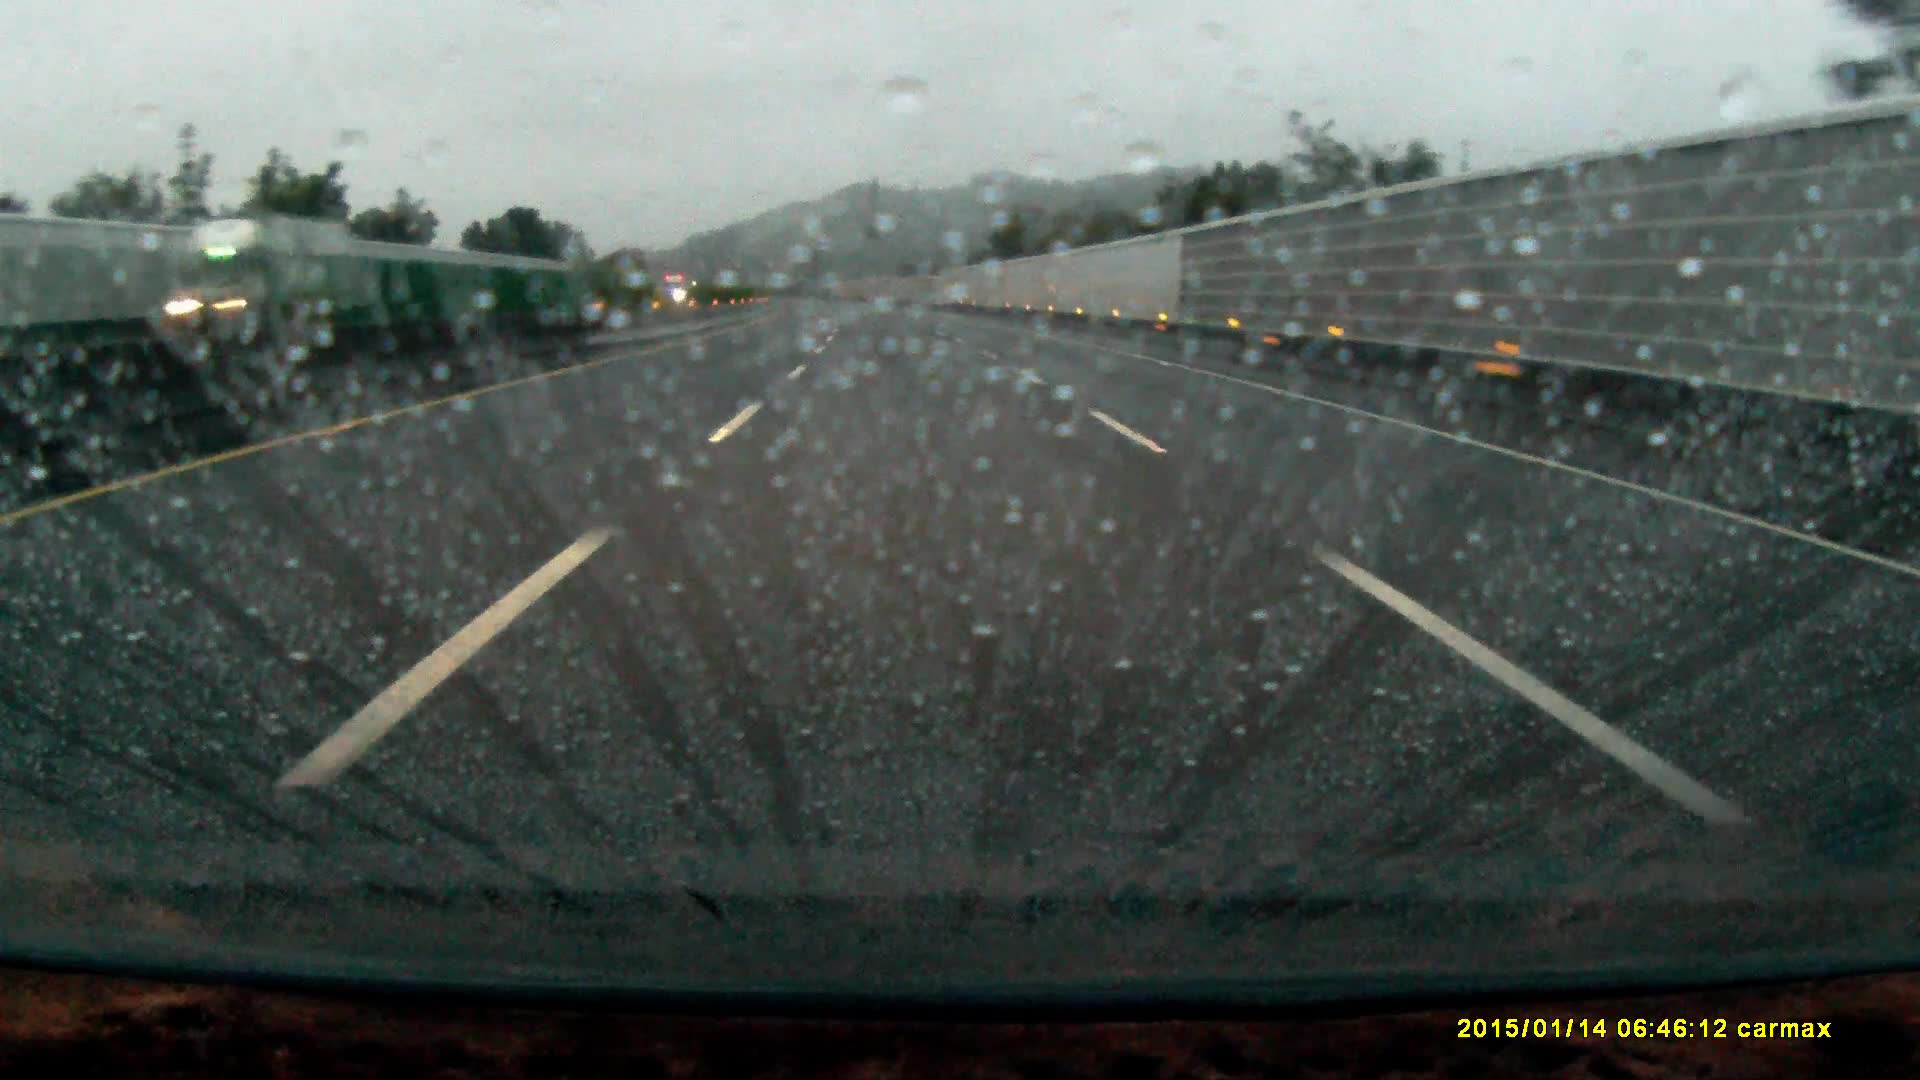vehicle: (146, 214, 334, 336)
